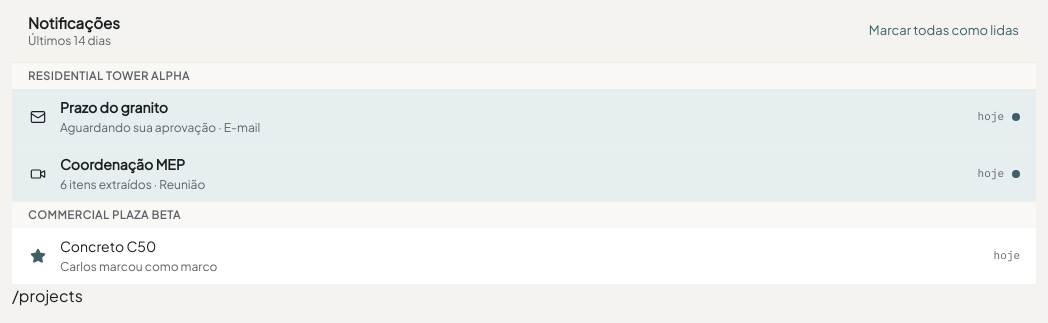
Test case: Phase 4e · Notificações › opening one marks it read and goes to it
Click the text "Coordenação MEP": (122, 164) x1=60 y1=155 x2=185 y2=173
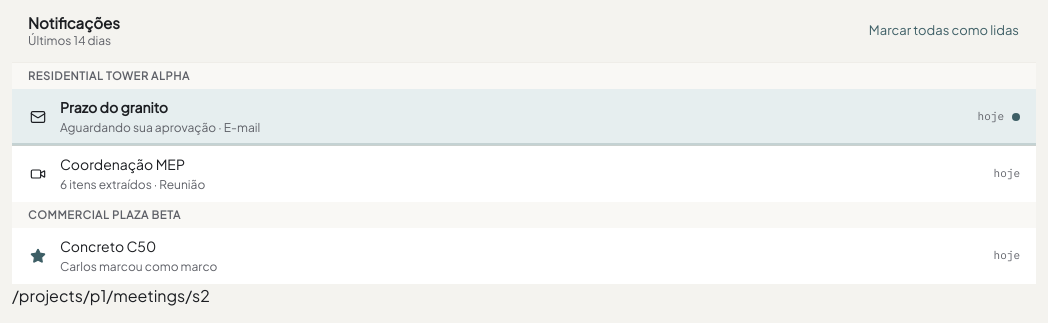
Check: the text with test id "where" reads "/projects/p1/meetings/s2", box x1=12 y1=285 x2=210 y2=306
